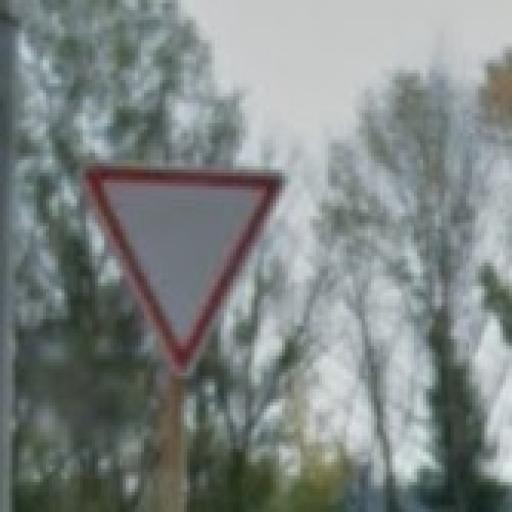traffic_sign: (81, 164, 289, 377)
